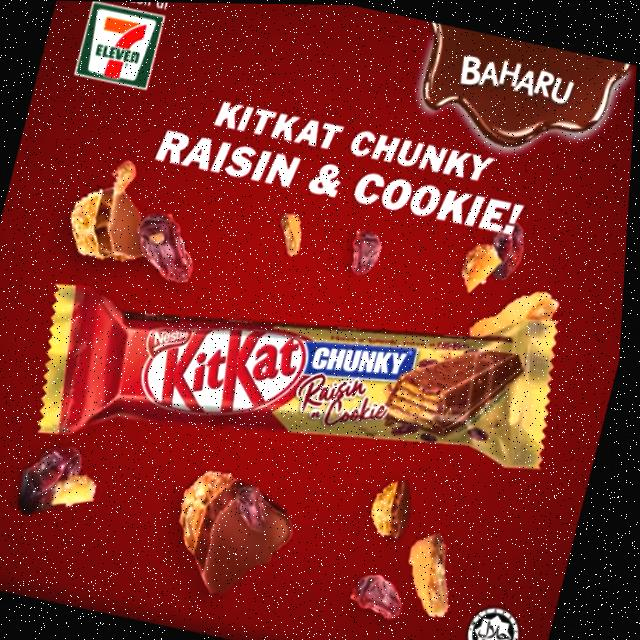kitkat: (30, 222, 588, 532)
